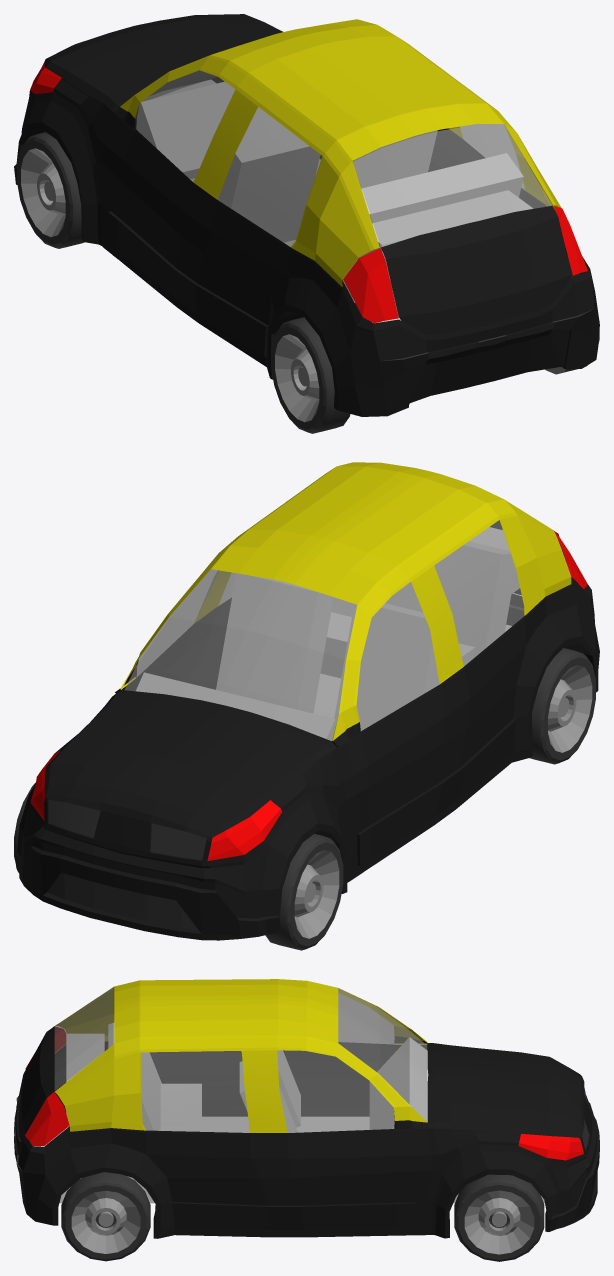
The model's file is Taxi Terminado.FBX.
3 views of the same model, one above another, from view 1: azimuth 30°, elevation 25°; view 2: azimuth 150°, elevation 25°; view 3: azimuth 270°, elevation 25° (orthographic). The views are drawn at different scales.
Visible parts, largest first — view 1: Plane003, Vidrios, Box003, Box007, Box005, Rueda de adelante Izquierda, Luces Taxi, Box001, Box004; view 2: Plane003, Vidrios, Box004, Box003, Box005, Rueda de adelante Izquierda, Box007, Luces Taxi, Box002, Box006, Box001; view 3: Plane003, Vidrios, Rueda de atras Derecha, Rueda de adelante Derecha, Box007, Luces Taxi, Box006, Box002, Box005, Box001, Box003, Box004.
Part boxes in pixels (bbox=[...]): Plane003: bbox=[14, 14, 599, 433]; Vidrios: bbox=[136, 70, 551, 247]; Box003: bbox=[218, 125, 320, 242]; Box007: bbox=[136, 82, 281, 178]; Box005: bbox=[342, 153, 523, 299]; Rueda de adelante Izquierda: bbox=[17, 132, 84, 248]; Luces Taxi: bbox=[30, 63, 587, 323]; Box001: bbox=[357, 190, 532, 280]; Box004: bbox=[352, 130, 437, 188]; Plane003: bbox=[14, 462, 599, 940]; Vidrios: bbox=[125, 520, 524, 740]; Box004: bbox=[216, 573, 333, 713]; Box003: bbox=[334, 603, 439, 730]; Box005: bbox=[331, 541, 515, 657]; Rueda de adelante Izquierda: bbox=[265, 834, 343, 950]; Box007: bbox=[136, 672, 336, 740]; Luces Taxi: bbox=[30, 531, 587, 860]; Box002: bbox=[320, 612, 474, 677]; Box006: bbox=[313, 625, 511, 718]; Box001: bbox=[470, 527, 519, 593]; Plane003: bbox=[14, 979, 599, 1238]; Vidrios: bbox=[54, 987, 427, 1132]; Rueda de atras Derecha: bbox=[61, 1172, 150, 1261]; Rueda de adelante Derecha: bbox=[454, 1174, 544, 1261]; Box007: bbox=[370, 1037, 428, 1129]; Luces Taxi: bbox=[25, 1026, 583, 1160]; Box006: bbox=[45, 1117, 544, 1203]; Box002: bbox=[161, 1084, 201, 1131]; Box005: bbox=[108, 1022, 161, 1130]; Box001: bbox=[66, 1034, 104, 1119]; Box003: bbox=[241, 1050, 300, 1127]; Box004: bbox=[240, 1061, 297, 1132].
Bounding box in the file's own units: 164 × 154 × 387.
